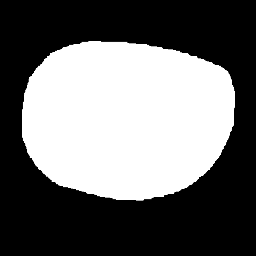mass: (24, 30, 215, 188)
